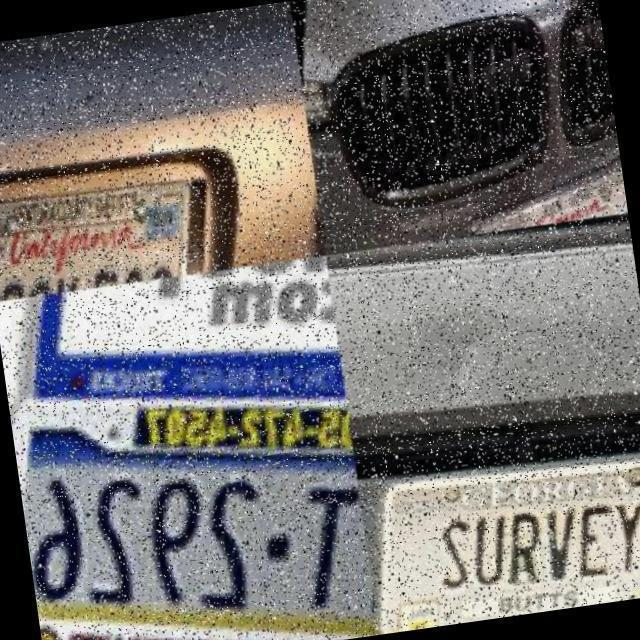license_plate: (16, 408, 378, 640), (385, 463, 640, 634), (65, 256, 343, 406), (0, 169, 206, 303)
